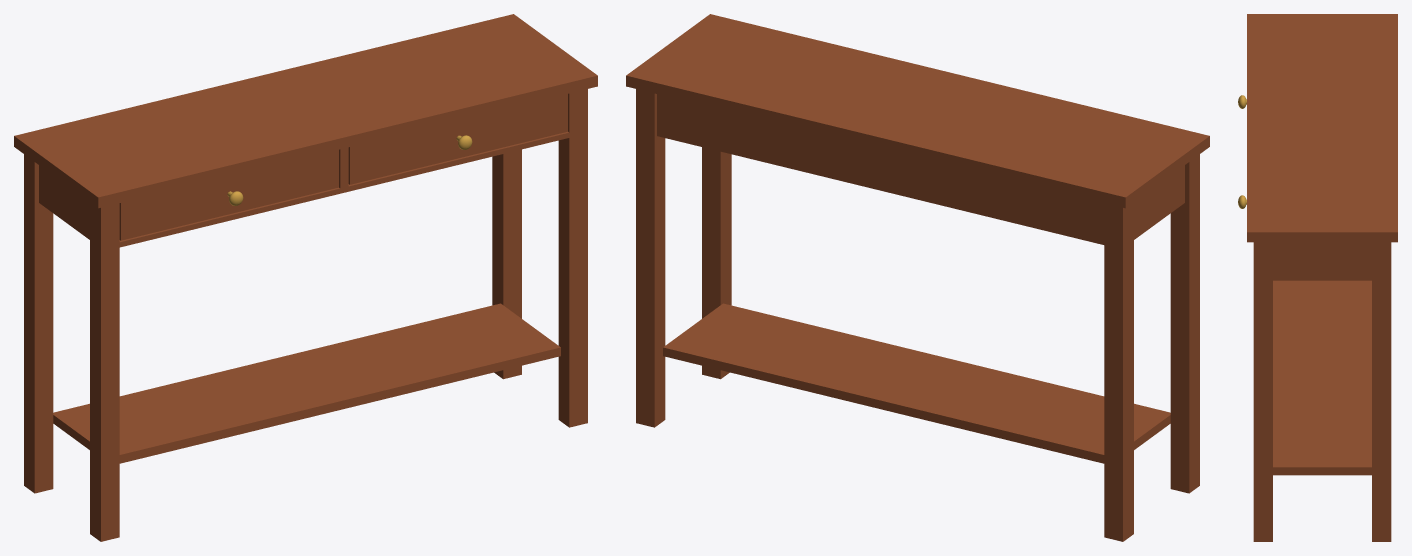
File: 011_console_table.glb
The picture shows the model from 3 angles, left to right: view 1: azimuth 30°, elevation 25°; view 2: azimuth 150°, elevation 25°; view 3: azimuth 270°, elevation 25°; orthographic projection. The views are drawn at different scales.
Visible parts, largest first — view 1: 008_table_top, 030_lower_shelf, 002_table_leg, 003_table_leg, 000_table_leg, 014_drawer_1_front, 022_drawer_2_front, 001_table_leg, 012_drawer_rail, 010_apron_l; view 2: 008_table_top, 030_lower_shelf, 009_apron_back, 000_table_leg, 001_table_leg, 002_table_leg, 003_table_leg, 010_apron_l; view 3: 008_table_top, 030_lower_shelf, 001_table_leg, 003_table_leg, 011_apron_r.
Part boxes in pixels (left/top/right/bottom): 008_table_top: left=14, top=14, right=597, bottom=208; 030_lower_shelf: left=53, top=303, right=560, bottom=463; 002_table_leg: left=90, top=202, right=119, bottom=541; 003_table_leg: left=558, top=89, right=587, bottom=427; 000_table_leg: left=24, top=154, right=53, bottom=493; 014_drawer_1_front: left=119, top=149, right=338, bottom=240; 022_drawer_2_front: left=348, top=94, right=567, bottom=184; 001_table_leg: left=492, top=149, right=521, bottom=379; 012_drawer_rail: left=119, top=131, right=569, bottom=247; 010_apron_l: left=39, top=165, right=89, bottom=239; 008_table_top: left=626, top=14, right=1209, bottom=208; 030_lower_shelf: left=663, top=303, right=1170, bottom=463; 009_apron_back: left=657, top=94, right=1104, bottom=244; 000_table_leg: left=1104, top=202, right=1133, bottom=541; 001_table_leg: left=636, top=89, right=665, bottom=427; 002_table_leg: left=1170, top=154, right=1199, bottom=493; 003_table_leg: left=702, top=147, right=731, bottom=379; 010_apron_l: left=1134, top=165, right=1184, bottom=239; 008_table_top: left=1247, top=14, right=1397, bottom=242; 030_lower_shelf: left=1273, top=280, right=1371, bottom=475; 001_table_leg: left=1372, top=242, right=1391, bottom=541; 003_table_leg: left=1253, top=242, right=1272, bottom=541; 011_apron_r: left=1273, top=242, right=1371, bottom=280.
Size of the model in its own units: 1.2 by 0.8 by 0.371.
